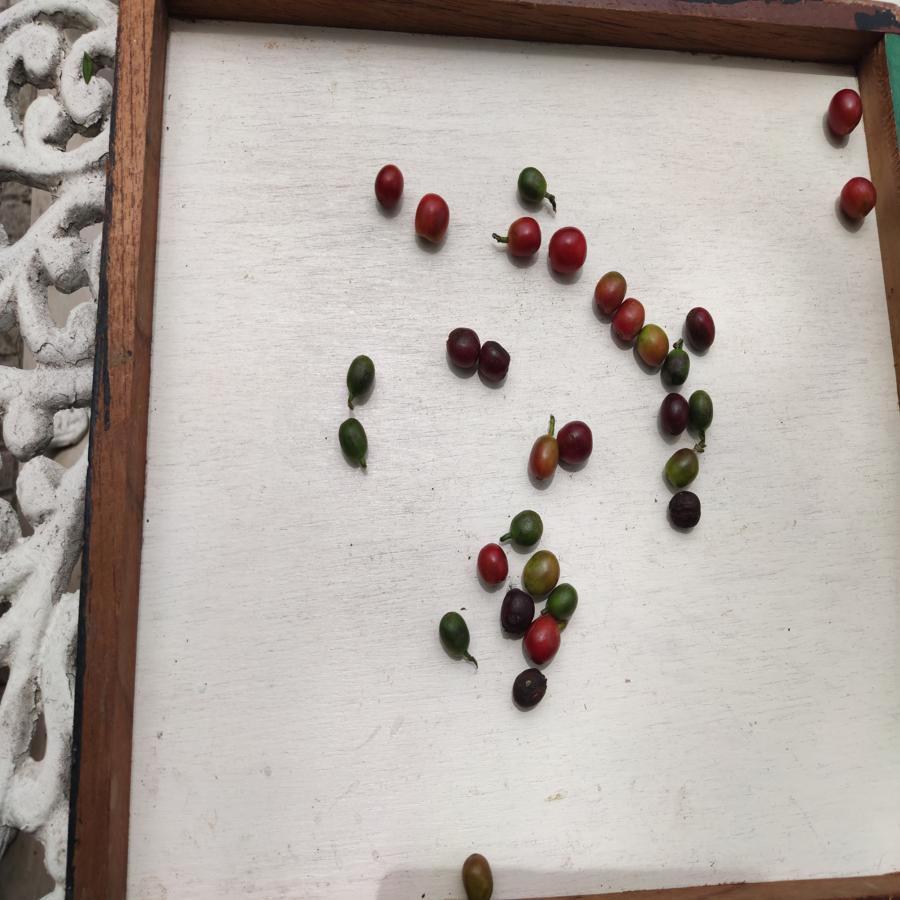Inmaduro: (439, 612, 471, 660), (338, 418, 370, 461), (508, 510, 545, 547), (514, 167, 549, 206), (343, 354, 376, 394), (688, 391, 717, 434), (547, 584, 579, 616), (664, 349, 691, 385)
Maduro: (547, 222, 590, 278), (824, 87, 862, 141), (838, 176, 879, 224), (415, 194, 450, 247), (473, 543, 510, 591), (524, 616, 560, 665), (504, 217, 542, 263), (613, 296, 648, 341), (374, 166, 406, 211)
Pinton: (461, 852, 495, 900), (524, 550, 559, 594), (663, 448, 699, 488), (594, 270, 625, 312), (635, 325, 666, 366), (528, 437, 558, 479)
Sobremaduro: (444, 327, 480, 371), (558, 420, 593, 464), (684, 307, 717, 352), (511, 667, 547, 707), (479, 342, 512, 382), (660, 391, 688, 436), (669, 491, 702, 529), (501, 589, 533, 627)
